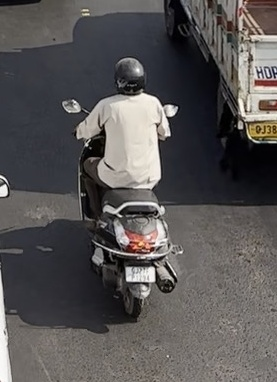BikeWithRider: (56, 51, 189, 323)
Helmet: (108, 52, 150, 100)
